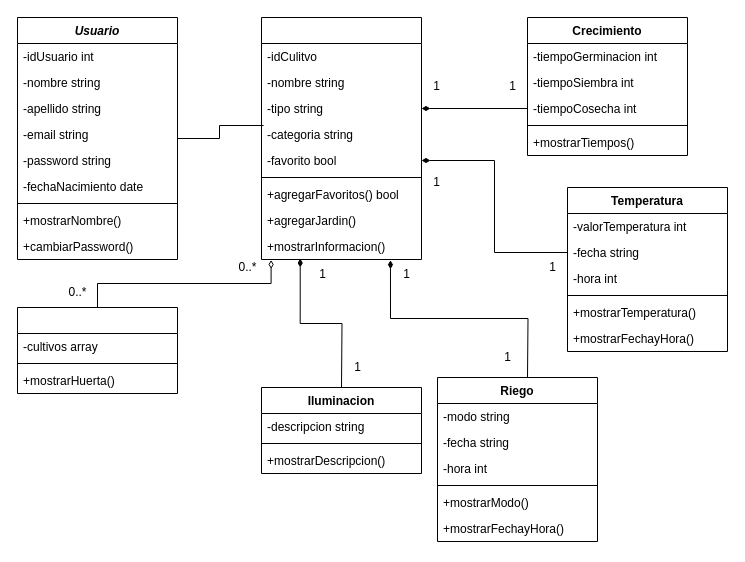
The diagram is 745 pixels wide and 562 high, and some of its shapes have lost their labels. The shapes that lost their labels are listed below. From the top down, each one's box as (x1, y1, x2, y2) in pixels, then its label:
(260, 16, 422, 260): Cultivos
(16, 306, 178, 394): Jardin
